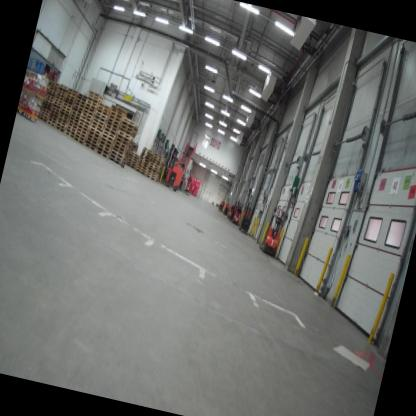pallet_truck: (256, 201, 292, 261), (165, 152, 189, 193), (238, 200, 257, 236), (229, 199, 244, 230), (182, 175, 195, 197), (227, 200, 239, 220), (222, 202, 231, 218), (217, 200, 227, 214)
